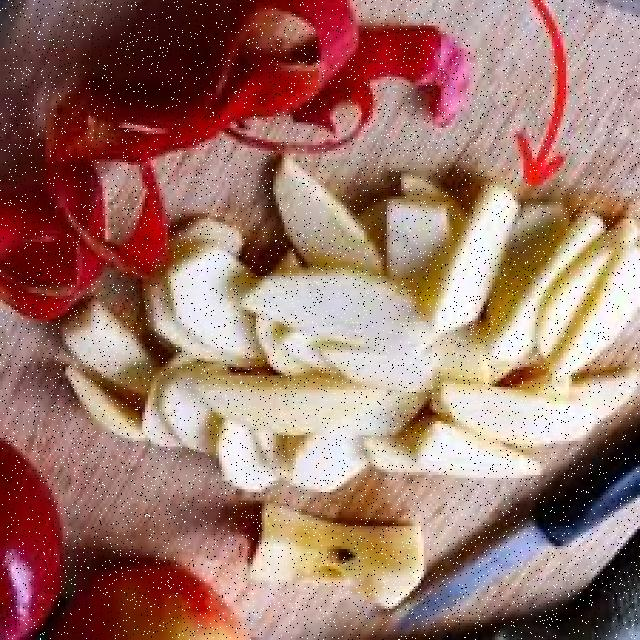Apple: (241, 500, 429, 608), (60, 562, 248, 636), (437, 180, 520, 330), (243, 262, 418, 333), (1, 438, 60, 638), (272, 160, 377, 270), (553, 246, 640, 374), (200, 378, 386, 428), (173, 247, 254, 351), (317, 344, 473, 397), (537, 229, 610, 341), (436, 388, 605, 430), (421, 422, 539, 481), (60, 312, 164, 376), (64, 376, 156, 441), (279, 429, 373, 491), (156, 369, 218, 455), (385, 201, 447, 284), (212, 429, 278, 491)
